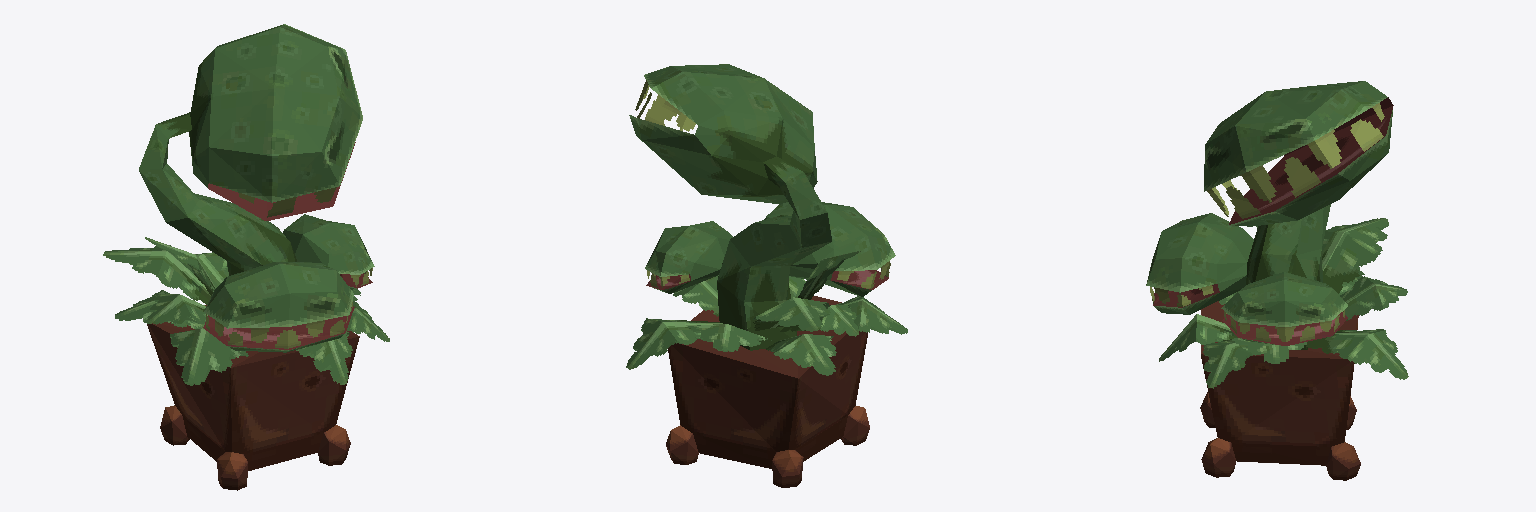
3 renders of one model, left to right at view 1: azimuth 30°, elevation 25°; view 2: azimuth 150°, elevation 25°; view 3: azimuth 270°, elevation 25°, orthographic.
Visible parts, largest first — view 1: Mesh_0096; view 2: Mesh_0096; view 3: Mesh_0096.
Part boxes in pixels (left/top/right/bottom): Mesh_0096: left=103, top=24, right=389, bottom=490; Mesh_0096: left=626, top=64, right=907, bottom=487; Mesh_0096: left=1146, top=81, right=1408, bottom=480.
Size of the model in its own units: 0.7941 by 1.33 by 0.8364.
Materials: 1 (1 with a texture image).